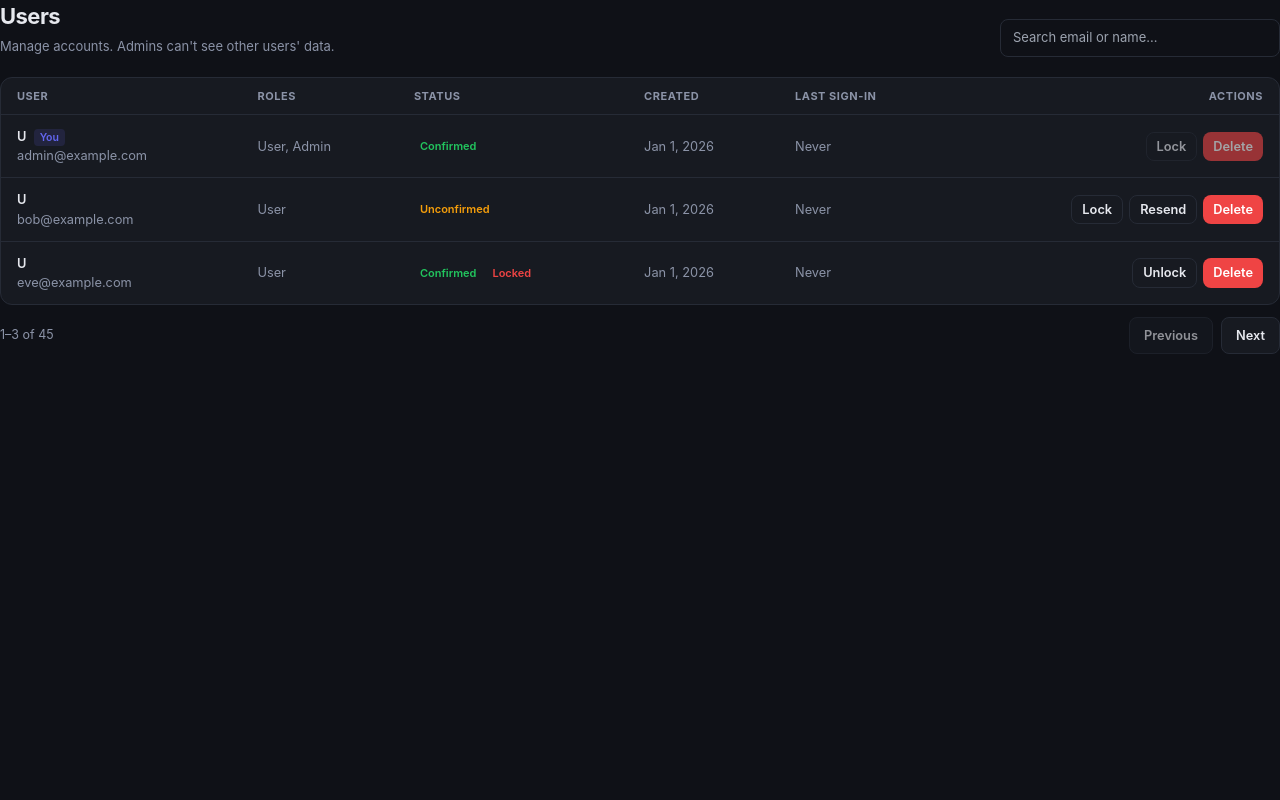
it: AdminUsersPageComponent › asks for confirmation before deleting
This screenshot has width=1280, height=800.
Click the button "Delete" in the row of "bob@example.com". click: (1233,210)
box: left=1203, top=195, right=1263, bottom=224
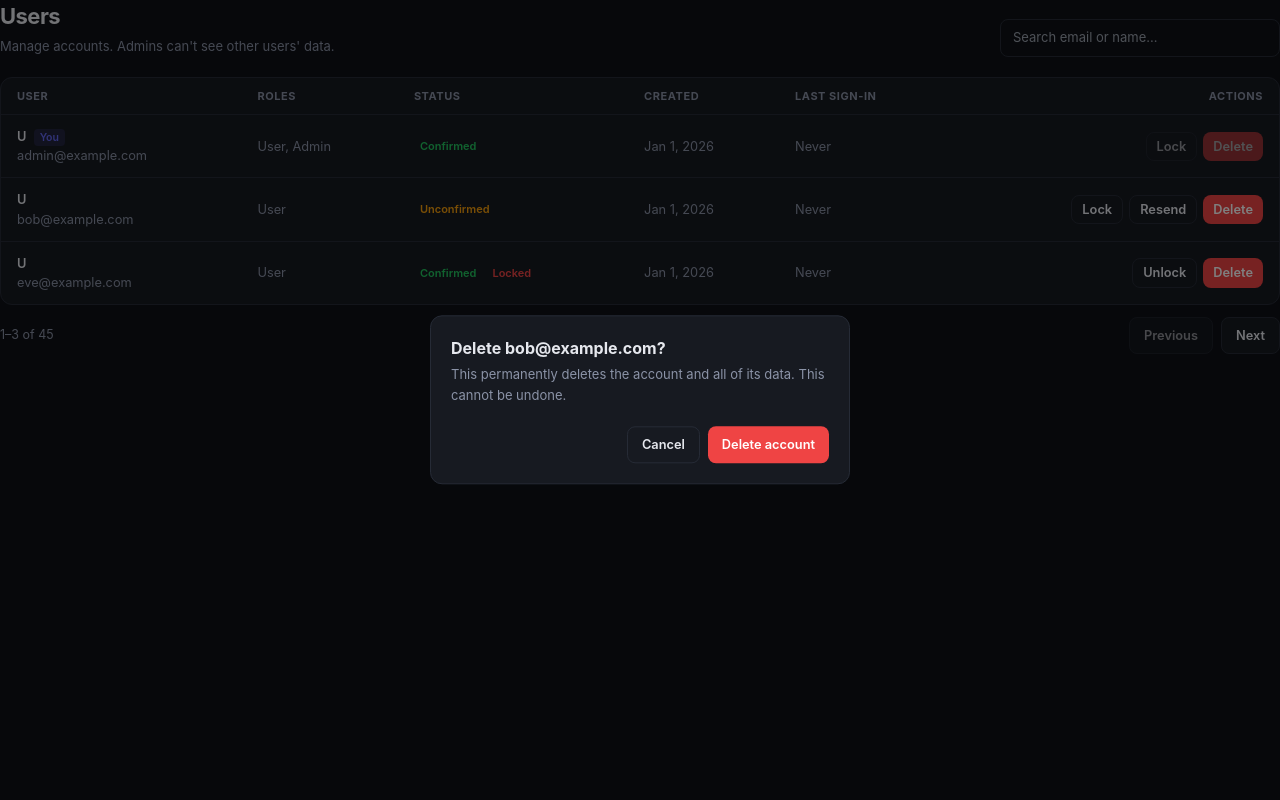
Result: the dialog shows "Delete bob@example.com?" at left=451, top=338, right=666, bottom=358
Click the button "Cancel". click: (663,445)
box: left=627, top=426, right=700, bottom=464
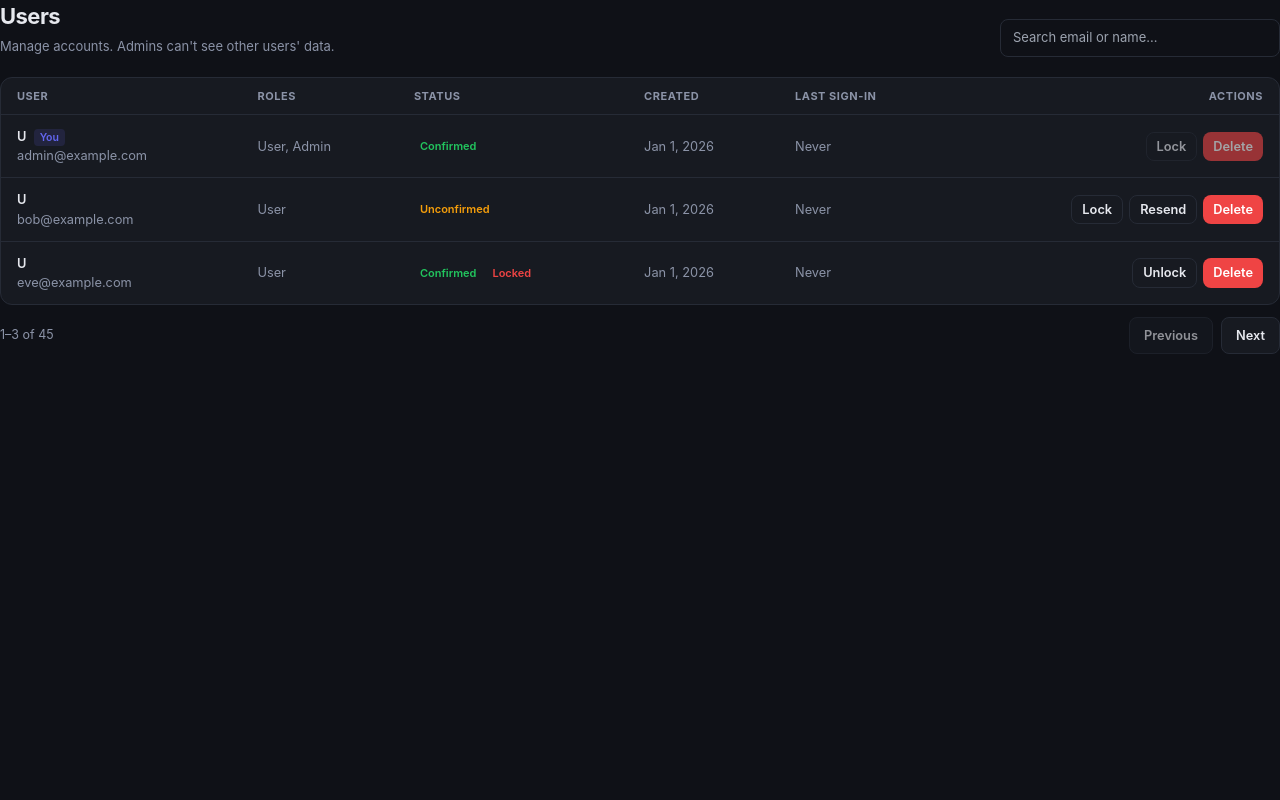
Result: the dialog is gone
Click the button "Delete" in the row of "bob@example.com". click: (1233,210)
box: left=1203, top=195, right=1263, bottom=224
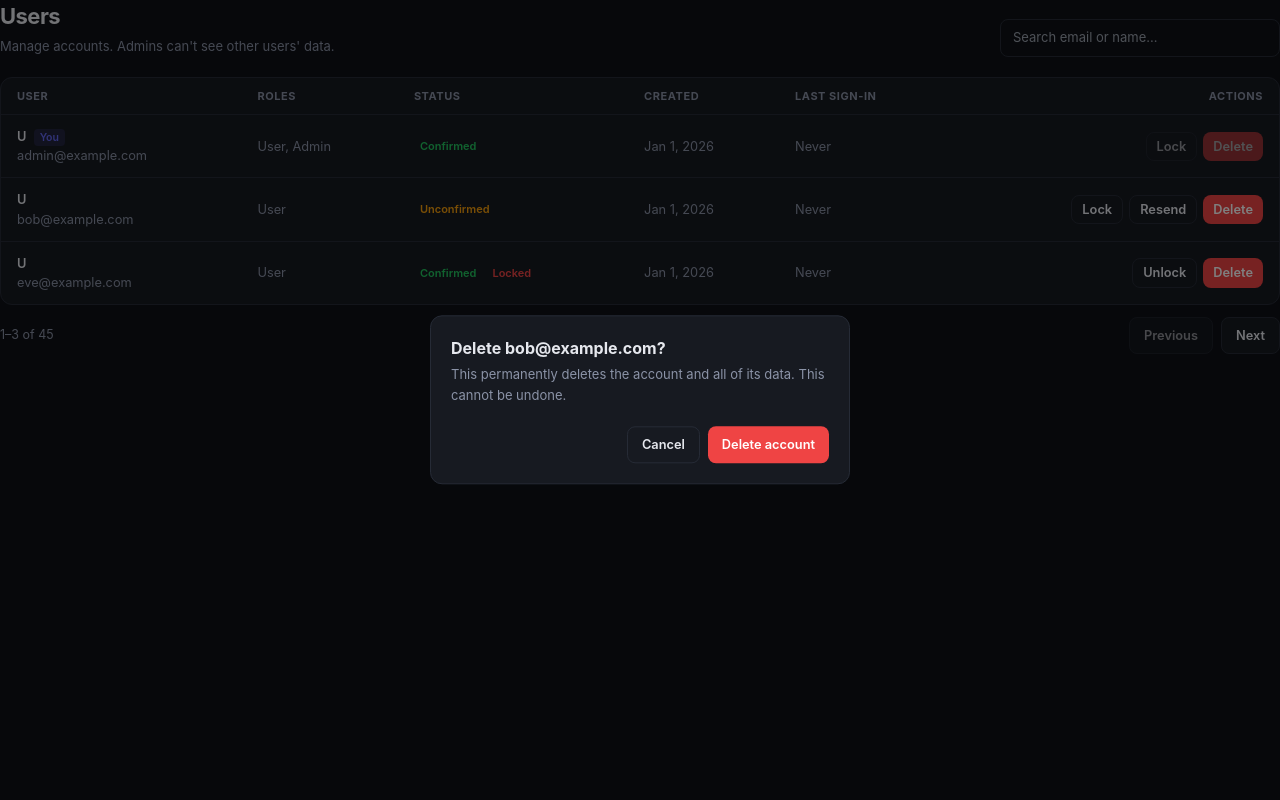
Click the button "Delete account". click: (768,445)
box: left=708, top=426, right=829, bottom=464
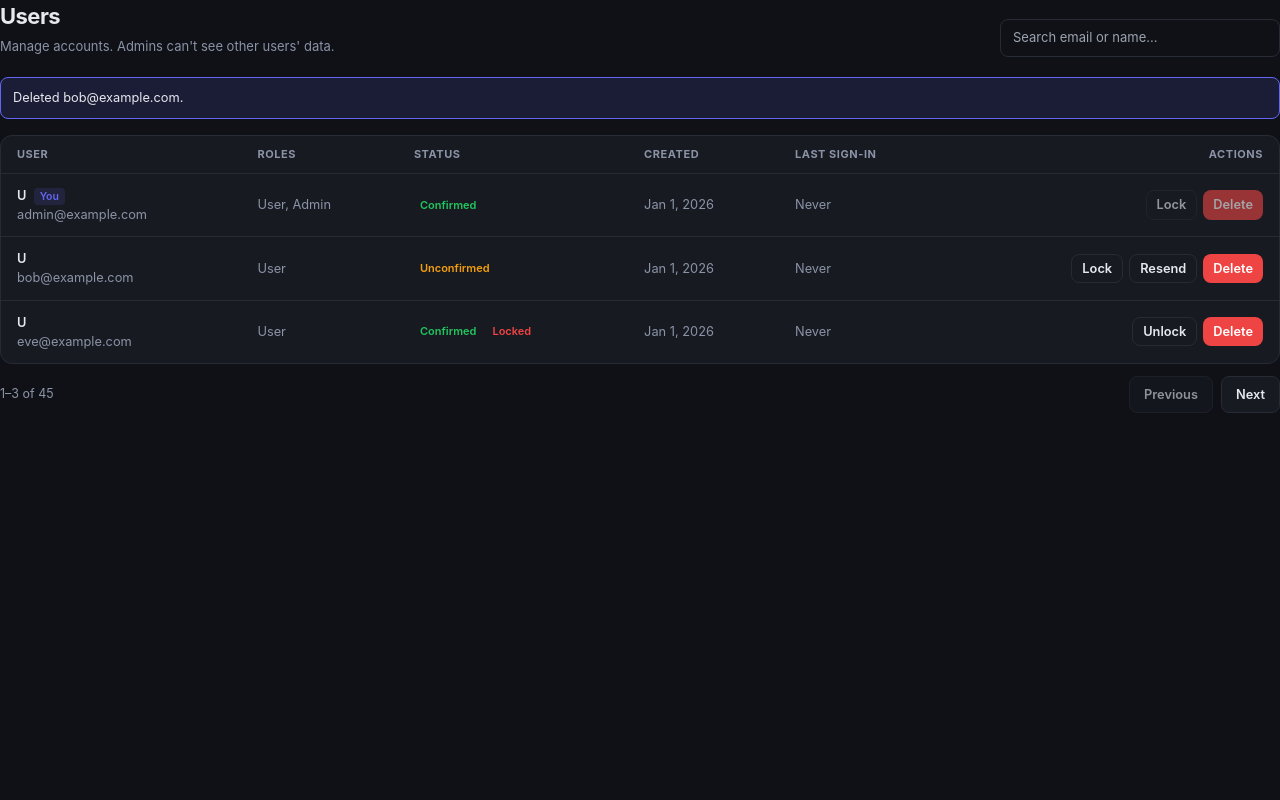
Result: the dialog is gone
Result: the text "Deleted bob@example.com." is shown at left=0, top=76, right=1279, bottom=119
